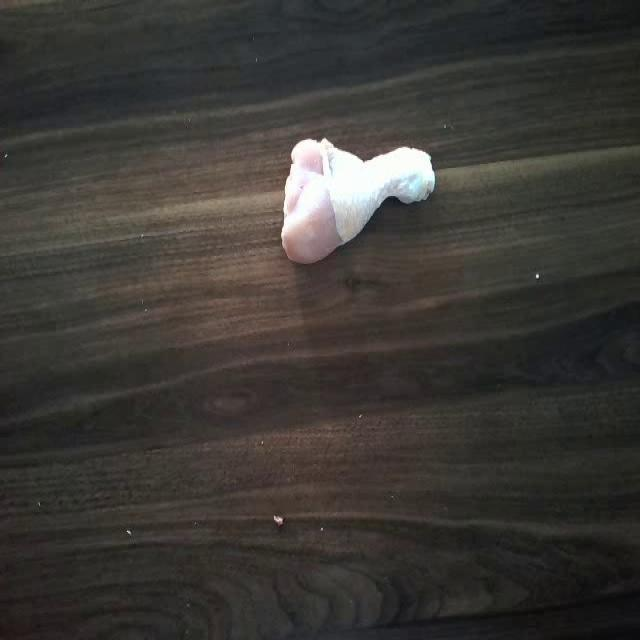leg: (282, 124, 434, 273)
